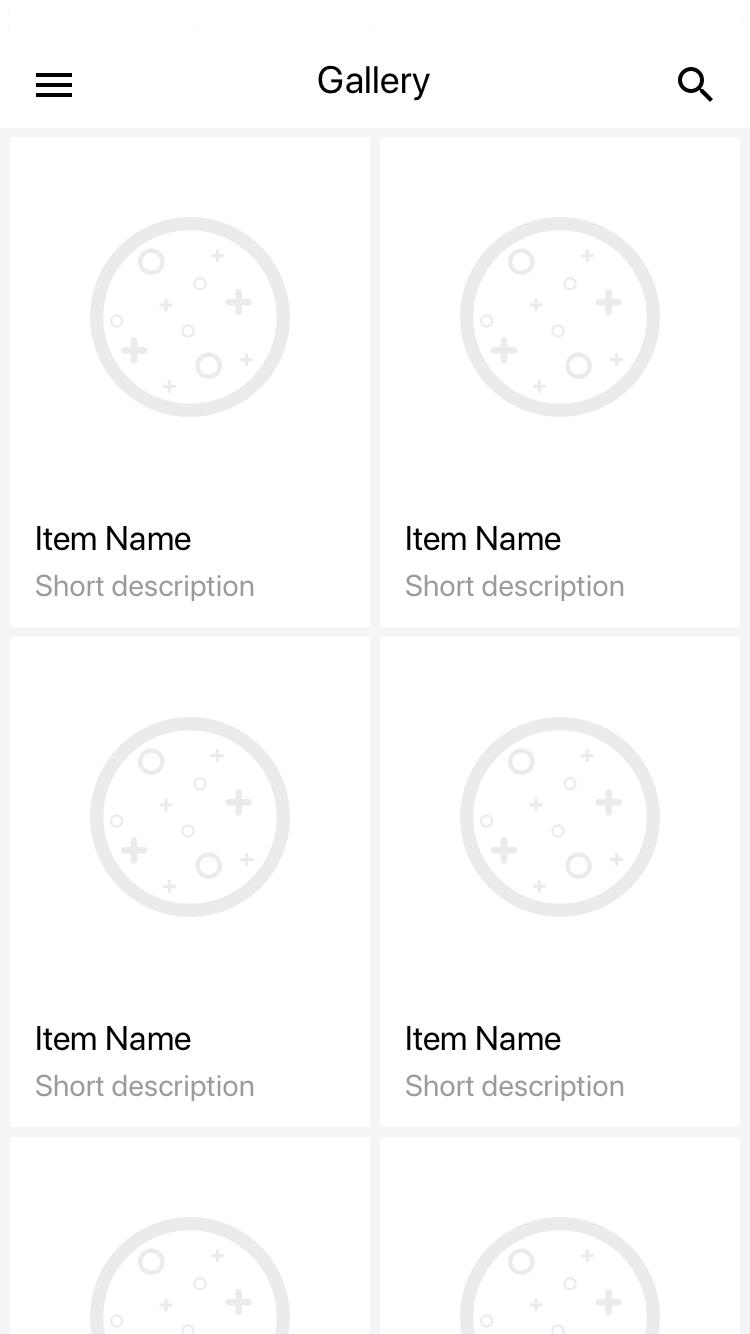Card: (9, 636, 372, 1129), (379, 137, 742, 629), (9, 137, 372, 629), (379, 636, 742, 1128), (9, 1136, 372, 1334), (379, 1136, 741, 1334)
Icon: (677, 67, 714, 103), (36, 73, 73, 99)
Image: (90, 216, 292, 419), (460, 217, 661, 419), (459, 717, 660, 918), (91, 717, 291, 916), (90, 1215, 293, 1334), (459, 1216, 663, 1334)
Text: (406, 1074, 624, 1102), (37, 1074, 255, 1102), (406, 574, 624, 602), (36, 575, 255, 602), (318, 65, 431, 102), (406, 1025, 562, 1051), (37, 1025, 192, 1051), (37, 525, 192, 551), (407, 526, 562, 552)
